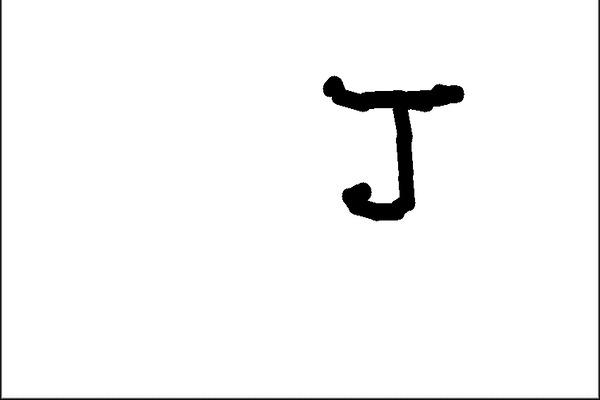J: (315, 68, 470, 229)
